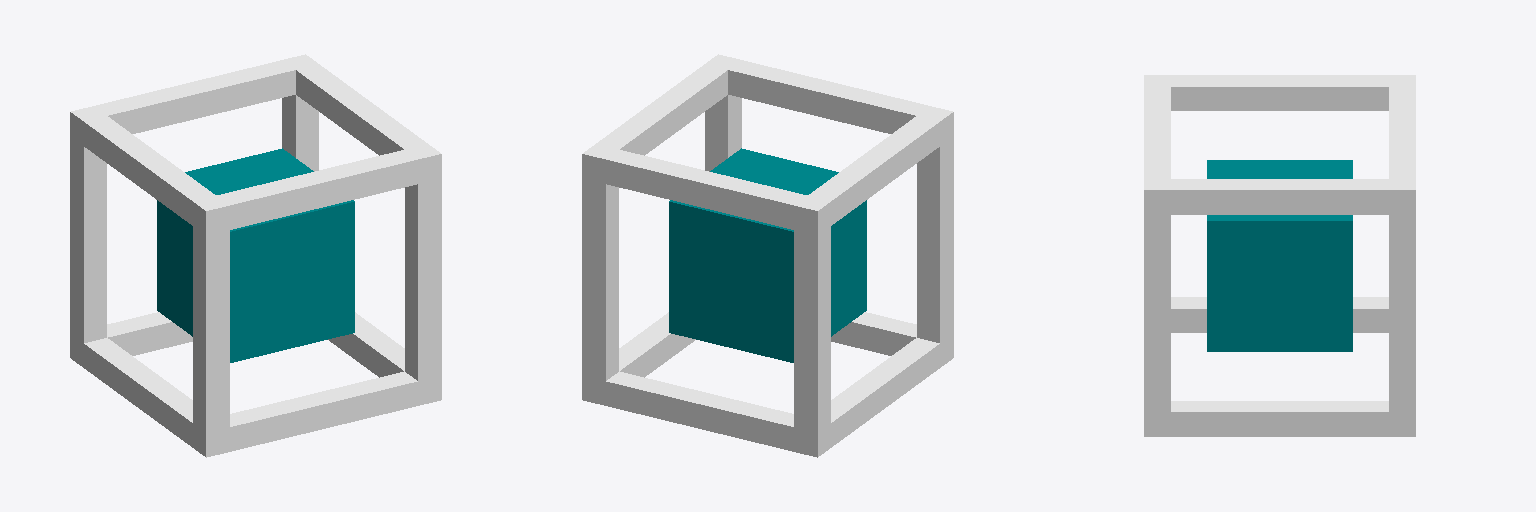
The picture shows the model from 3 angles: view 1: azimuth 30°, elevation 25°; view 2: azimuth 150°, elevation 25°; view 3: azimuth 270°, elevation 25°; orthographic projection.
Visible parts, largest first — view 1: object 1; view 2: object 1; view 3: object 1.
Boxes of the visible parts, x1,y1,x2,y2 form: object 1: [70, 54, 441, 457]; object 1: [582, 54, 953, 457]; object 1: [1144, 75, 1415, 436].
Bounding box in the file's own units: 3 × 3 × 3.
1 materials, 1 textured.